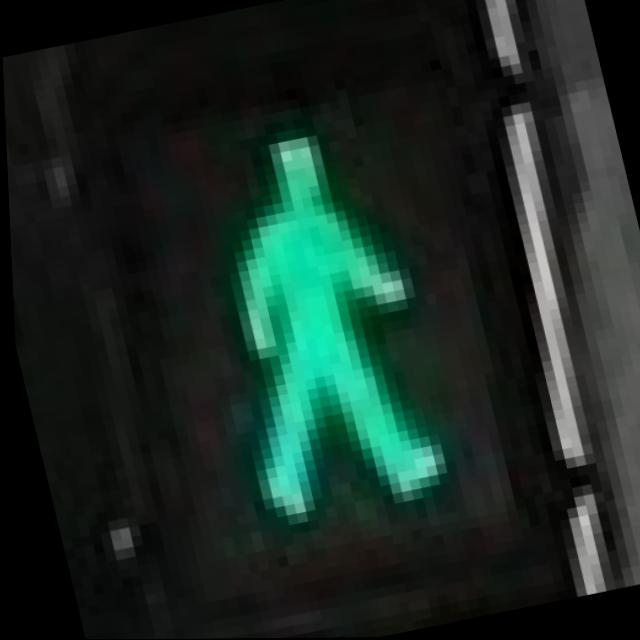green_light: (144, 97, 497, 583)
